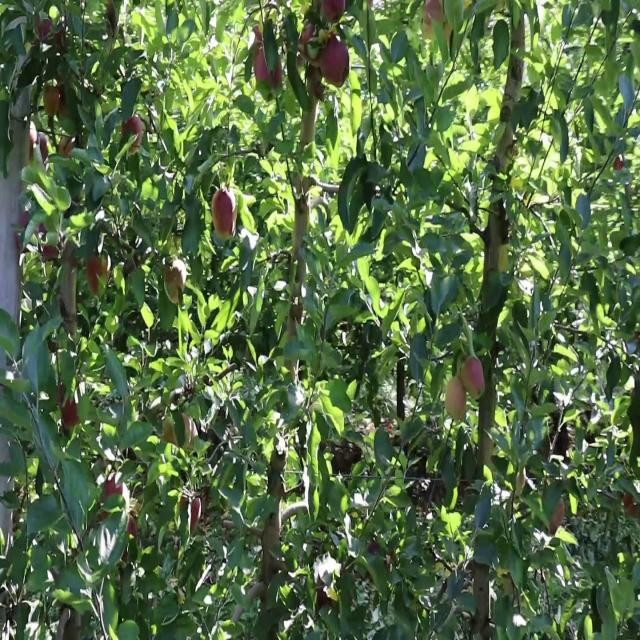apple: (319, 36, 349, 87), (211, 187, 238, 240), (420, 0, 451, 44), (102, 473, 129, 519), (305, 44, 326, 100), (422, 0, 451, 40), (254, 47, 282, 87), (460, 356, 485, 398), (86, 256, 110, 296), (445, 376, 466, 420), (121, 113, 142, 152), (29, 122, 49, 161), (164, 258, 186, 293), (38, 224, 59, 260), (86, 253, 110, 284), (307, 63, 326, 101), (13, 210, 29, 250), (299, 22, 315, 62), (33, 12, 53, 42), (61, 398, 80, 429), (44, 84, 61, 117), (549, 498, 565, 533), (321, 0, 345, 22), (34, 13, 51, 42), (104, 473, 122, 500), (622, 493, 639, 518), (86, 264, 99, 296), (58, 136, 75, 158), (126, 513, 138, 538), (316, 589, 331, 609), (41, 244, 59, 260), (58, 96, 69, 117), (612, 153, 624, 172), (296, 56, 302, 66)
